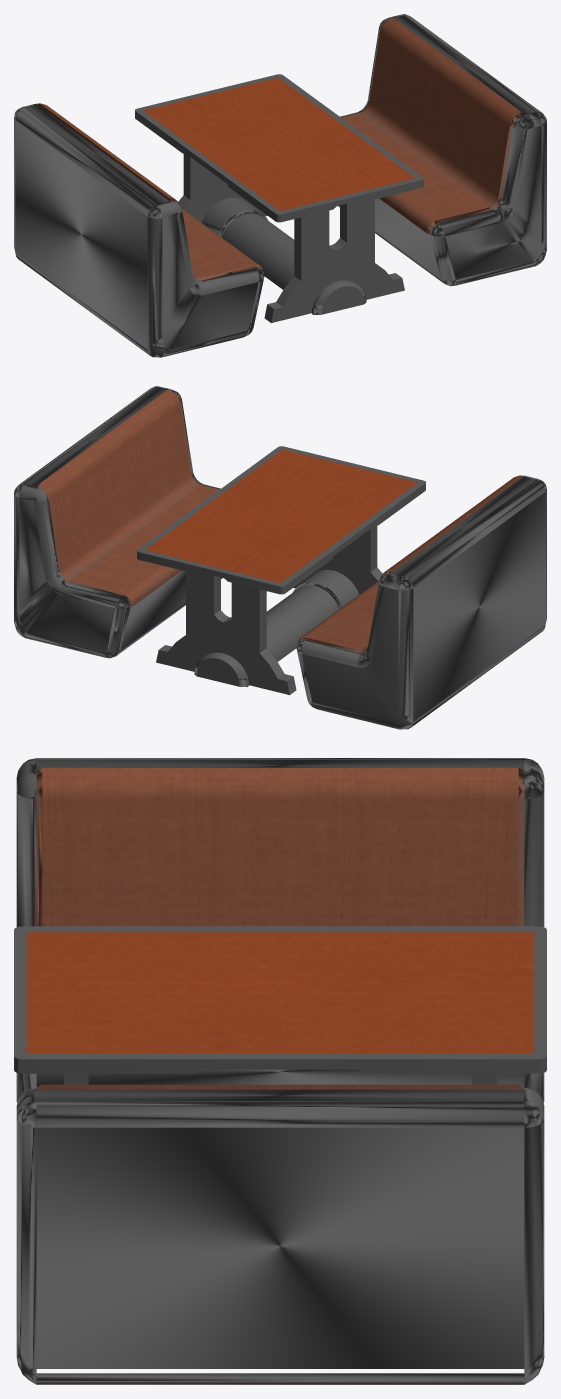
Rendered from table-sofa-36fa1b.glb.
The picture shows the model from 3 angles, top to bottom: view 1: azimuth 30°, elevation 25°; view 2: azimuth 150°, elevation 25°; view 3: azimuth 270°, elevation 25°; orthographic projection. The views are drawn at different scales.
Visible parts, largest first — view 1: PropMesh; view 2: PropMesh; view 3: PropMesh.
Boxes of the visible parts, left/top/right/bottom form: PropMesh: left=14, top=14, right=546, bottom=357; PropMesh: left=14, top=386, right=546, bottom=729; PropMesh: left=14, top=758, right=546, bottom=1384.
Size of the model in its own units: 2.79 by 1.05 by 1.76.
Materials: 1 (1 with a texture image).
